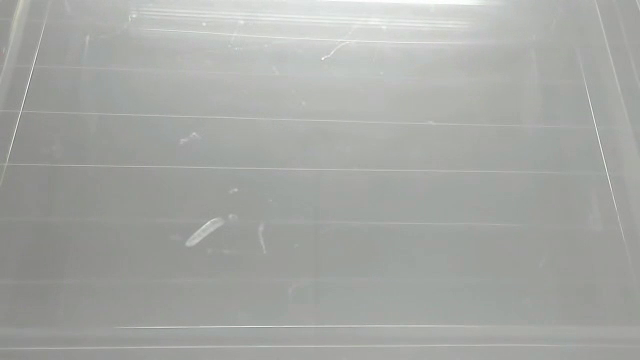alpha: (182, 211, 225, 251)
